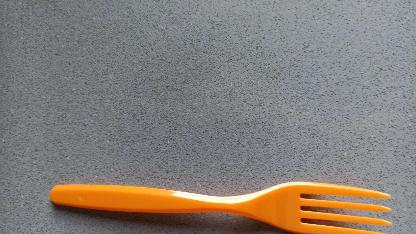Others: (46, 176, 394, 234)
